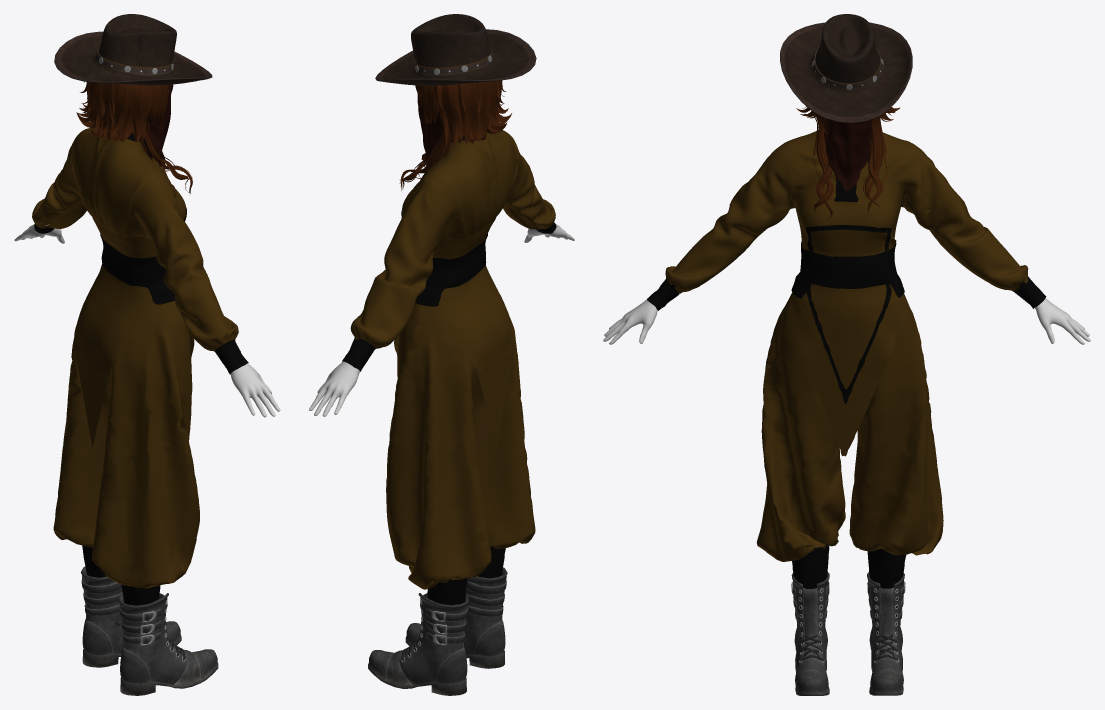
Rendered from MainCharacter.fbx.
3 views of the same model, side by side, from view 1: azimuth 30°, elevation 25°; view 2: azimuth 150°, elevation 25°; view 3: azimuth 270°, elevation 25° (orthographic).
Parts seen in each view (by area): view 1: Outfit, Boots, Hat, Hair, Body, Scarf; view 2: Outfit, Boots, Hat, Hair, Body, Scarf; view 3: Outfit, Hat, Boots, Hair, Scarf, Body.
Boxes of the visible parts, x1,y1,x2,y2 form: Outfit: (32, 128, 248, 625); Boots: (81, 566, 218, 695); Hat: (54, 14, 212, 85); Hair: (76, 81, 192, 193); Body: (14, 224, 280, 417); Scarf: (146, 84, 173, 163); Outfit: (342, 130, 556, 605); Boots: (368, 567, 507, 695); Hat: (375, 14, 536, 85); Hair: (399, 63, 511, 190); Body: (309, 86, 574, 416); Scarf: (415, 85, 443, 166); Outfit: (647, 130, 1046, 635); Hat: (780, 14, 912, 122); Boots: (791, 572, 905, 695); Hair: (796, 106, 899, 218); Scarf: (821, 116, 872, 191); Body: (603, 298, 1090, 344).
Size of the model in its own units: 467 by 2026 by 1378.
